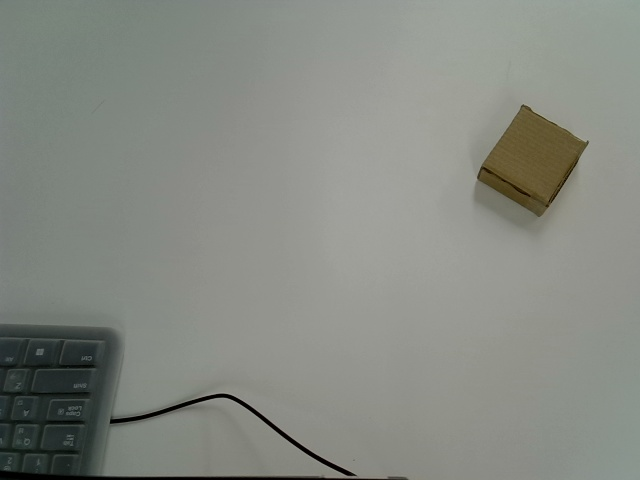normal: (477, 104, 591, 218)
